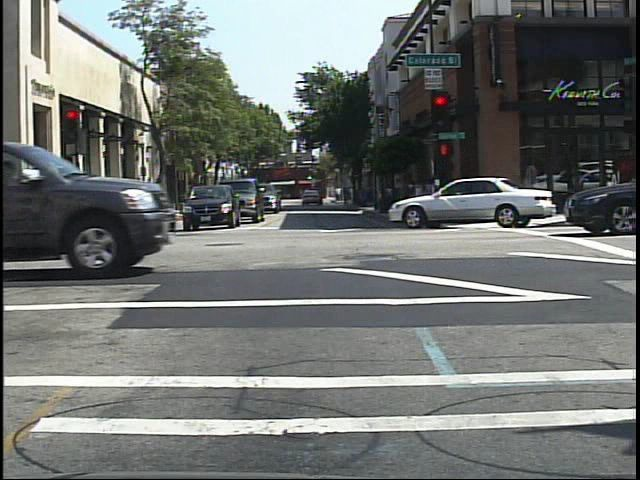person: (105, 180, 123, 222)
